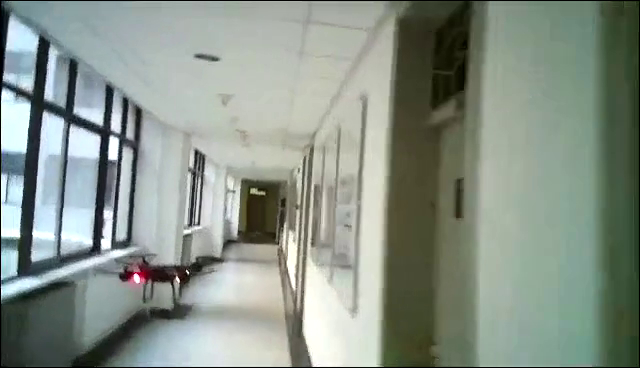drone: (92, 252, 227, 309)
